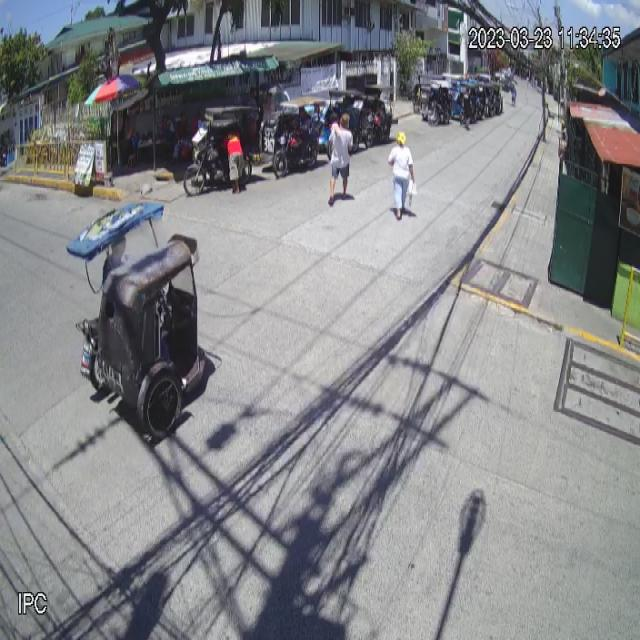Tricycle: (66, 198, 205, 439)
